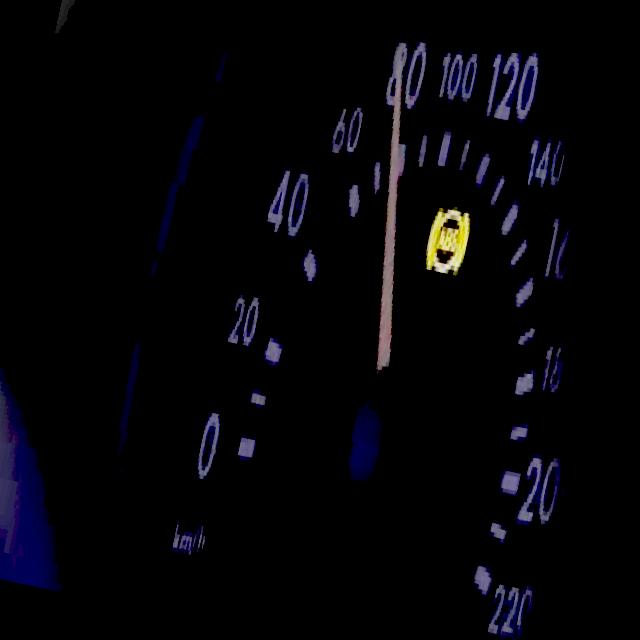kontrolka: (418, 194, 479, 285)
